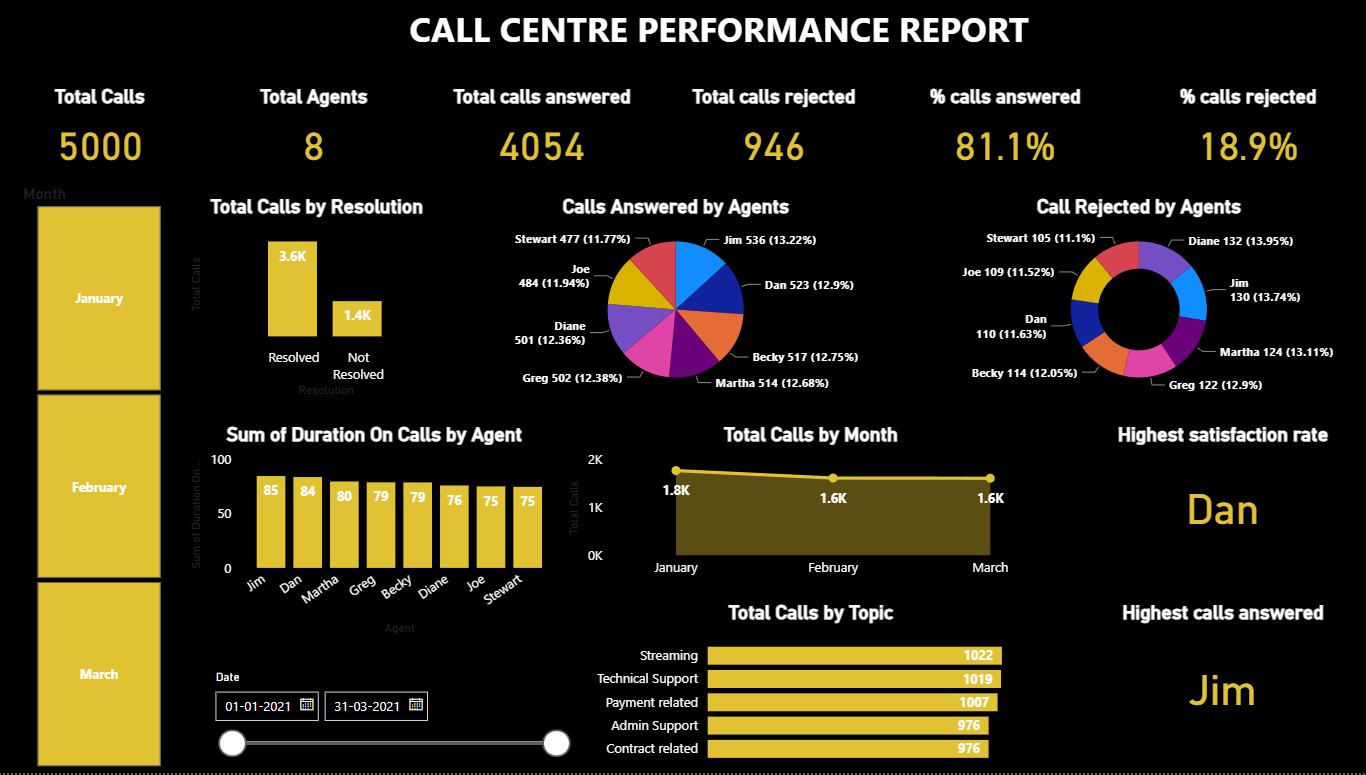

This screenshot's page, from the dashboard's own definition file:
{"tool":"powerbi","page":{"name":"Summary","canvas":[1280,720],"ordinal":0},"visuals":[{"type":"card","title":"Total Calls","fields":{"Values":["Performance.Total Calls"]},"box":[0,79.3,189.3,87.4],"z":0},{"type":"card","title":"Total Agents","fields":{"Values":["Count(Performance.Agent)"]},"box":[189.3,79.3,208.7,87.4],"z":1000},{"type":"card","title":"Total calls answered","fields":{"Values":["Sum(Performance.Calls Answered)"]},"box":[398,79.3,216.8,87.4],"z":2000},{"type":"card","title":"Total calls rejected","fields":{"Values":["Sum(Performance.Call Rejected)"]},"box":[614.8,79.3,213.6,87.4],"z":3000},{"type":"card","title":"% calls answered","fields":{"Values":["Performance.% calls answered"]},"box":[828.4,79.3,218.4,87.4],"z":4000},{"type":"card","title":"% calls rejected","fields":{"Values":["Performance.% calls rejected"]},"box":[1046.8,79.3,233,87.4],"z":5000},{"type":"columnChart","fields":{"Y":["Performance.Total Calls"],"Category":["Performance.Resolution"]},"box":[174.7,181.2,244.3,192.5],"z":6000},{"type":"card","title":"Highest calls answered","fields":{"Values":["Min(Performance.Agent)"]},"box":[998.3,559.8,281.5,135.9],"z":7000},{"type":"card","title":"Highest satisfaction rate","fields":{"Values":["Min(Performance.Agent)"]},"box":[998.3,393.2,281.5,132.7],"z":8000},{"type":"barChart","fields":{"Category":["Performance.Topic"],"Y":["Performance.Total Calls"]},"box":[525.8,559.8,461.1,160.2],"z":9000},{"type":"columnChart","fields":{"Y":["Sum(Performance.Duration On Calls)"],"Category":["Performance.Agent"]},"box":[174.7,393.2,351.1,202.2],"z":10000},{"type":"areaChart","fields":{"Y":["Performance.Total Calls"],"Category":["Performance.Date.Variation.Date Hierarchy.Month"]},"box":[525.8,393.2,461.1,153.7],"z":11000},{"type":"slicer","fields":{"Values":["Performance.Date.Variation.Date Hierarchy.Month"]},"box":[0,166.7,127.8,553.3],"z":12000},{"type":"slicer","fields":{"Values":["Performance.Date"]},"box":[189.3,618.1,351.1,101.9],"z":13000},{"type":"pieChart","title":"Calls Answered by Agents","fields":{"Y":["Sum(Performance.Calls Answered)"],"Category":["Performance.Agent"]},"box":[419.1,181.2,423.9,192.5],"z":14000},{"type":"slicer","fields":{"Values":["Performance.Date.Variation.Date Hierarchy.Month"]},"box":[10,166.7,165,553.3],"z":15000},{"type":"donutChart","title":"Call Rejected by Agents","fields":{"Category":["Performance.Agent"],"Y":["Sum(Performance.Call Rejected)"]},"box":[843,181.2,436.9,192.5],"z":16000},{"type":"textbox","box":[354.3,0,632.6,66.3],"z":17000}]}

Visuals, with their boxes in screenshot pixels (x1, y1, x2, y2), scaled from the page's 1280x720 canvas onto the 1366x775 screenshot:
"Total Calls" card: 0:85:202:179
"Total Agents" card: 202:85:425:179
"Total calls answered" card: 425:85:656:179
"Total calls rejected" card: 656:85:884:179
"% calls answered" card: 884:85:1117:179
"% calls rejected" card: 1117:85:1365:179
columnChart - Performance.Total Calls x Performance.Resolution: 186:195:447:402
"Highest calls answered" card: 1065:603:1365:749
"Highest satisfaction rate" card: 1065:423:1365:566
barChart - Performance.Topic x Performance.Total Calls: 561:603:1053:774
columnChart - Sum(Performance.Duration On Calls) x Performance.Agent: 186:423:561:641
areaChart - Performance.Total Calls x Performance.Date.Variation.Date Hierarchy.Month: 561:423:1053:589
slicer - Performance.Date.Variation.Date Hierarchy.Month: 0:179:136:774
slicer - Performance.Date: 202:665:577:774
"Calls Answered by Agents" pieChart: 447:195:900:402
slicer - Performance.Date.Variation.Date Hierarchy.Month: 11:179:187:774
"Call Rejected by Agents" donutChart: 900:195:1365:402
textbox: 378:0:1053:71
